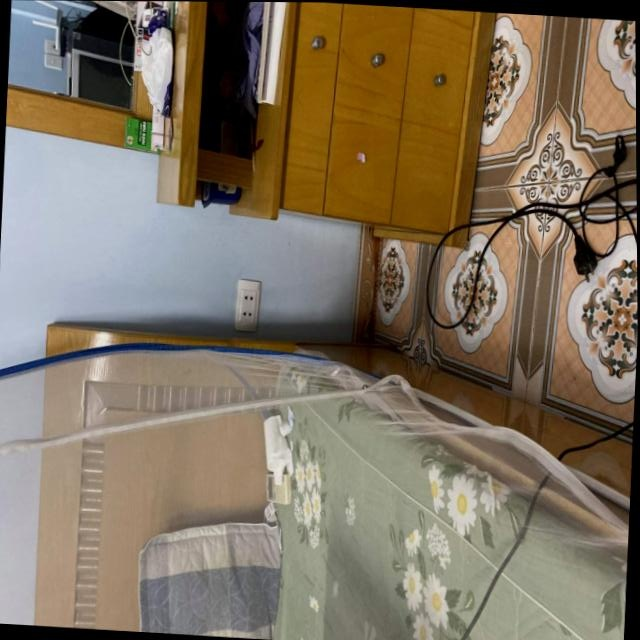outlet: (233, 280, 261, 333)
